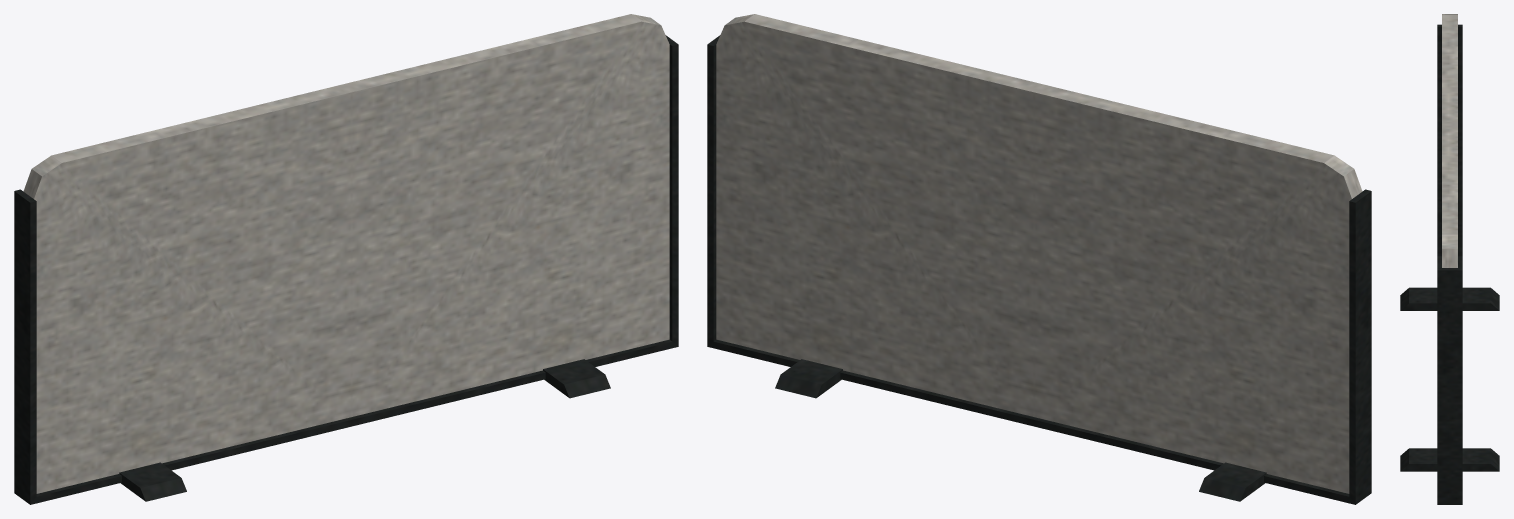
Rendered from divider_black_low.obj.
3 views of the same model, side by side, from view 1: azimuth 30°, elevation 25°; view 2: azimuth 150°, elevation 25°; view 3: azimuth 270°, elevation 25° (orthographic). The views are drawn at different scales.
Visible parts, largest first — view 1: divider_black_low; view 2: divider_black_low; view 3: divider_black_low.
Part boxes in pixels (x1,y1,x2,y2): divider_black_low: (14,14,678,504); divider_black_low: (707,14,1371,504); divider_black_low: (1400,14,1499,504).
Bounding box in the file's own units: 3.06 × 1.5 × 0.523.
